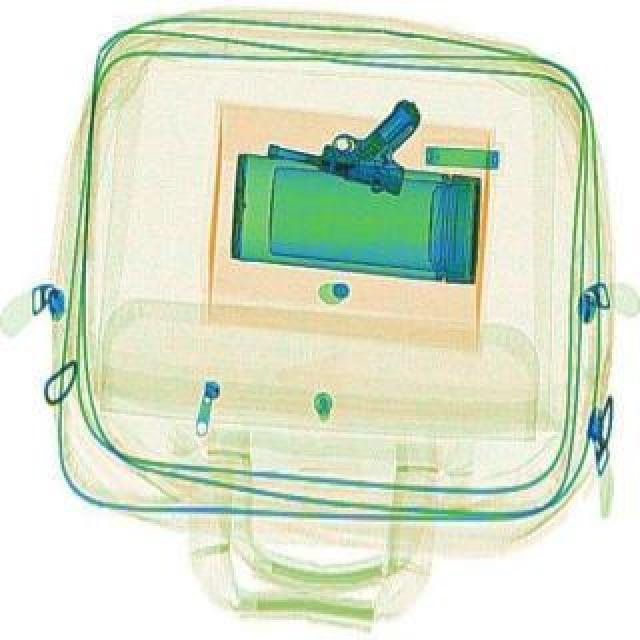gun: (266, 70, 434, 204)
